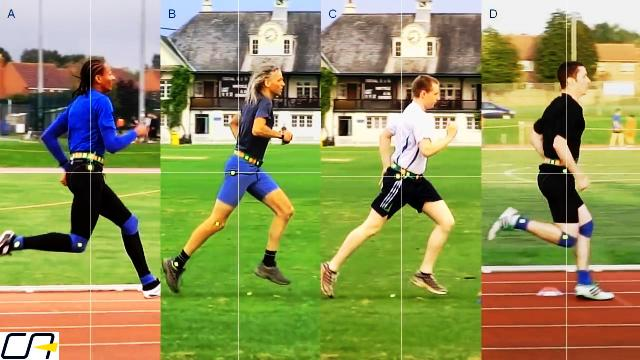berlari: (6, 52, 162, 307), (316, 66, 470, 318), (488, 53, 620, 317), (162, 57, 298, 299)
